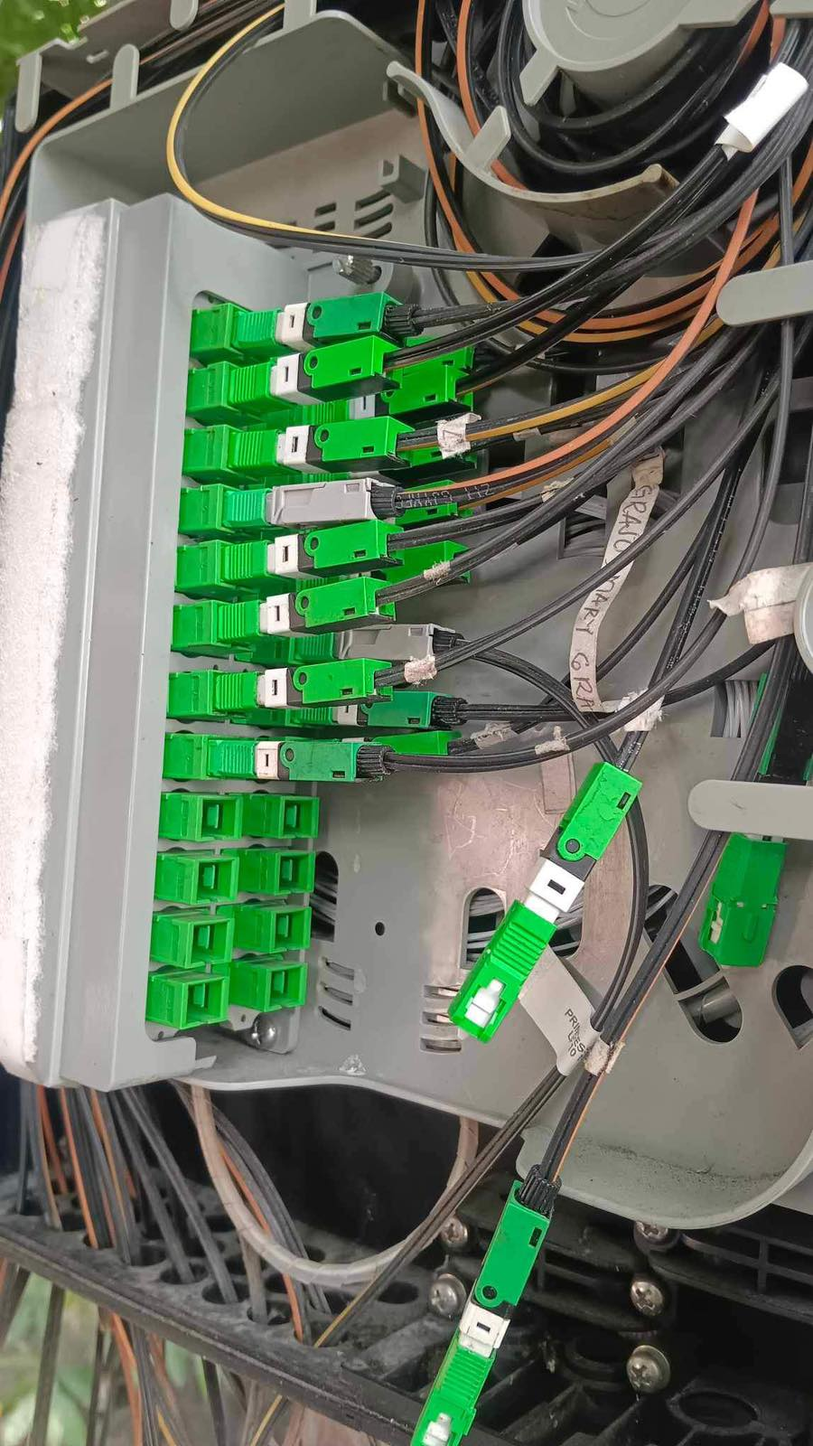no dust cap: (187, 921, 234, 969), (183, 979, 229, 1028), (193, 860, 240, 904), (198, 797, 242, 841), (266, 965, 308, 1011), (271, 909, 311, 952), (277, 853, 314, 895), (281, 797, 318, 838)
occupied: (232, 330, 405, 426), (236, 289, 432, 367), (219, 574, 397, 653), (226, 519, 407, 594), (217, 653, 402, 725), (229, 417, 412, 483), (310, 424, 483, 489), (306, 537, 477, 602), (227, 476, 403, 538), (307, 479, 476, 541), (207, 733, 397, 785), (310, 368, 475, 427), (287, 726, 467, 780), (317, 325, 476, 378), (292, 688, 471, 731), (292, 624, 459, 665)
